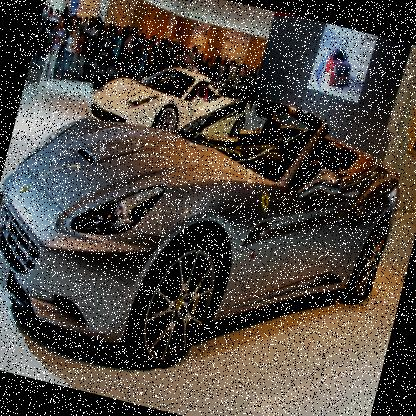Car: (0, 46, 411, 415), (85, 43, 253, 154), (206, 65, 258, 105), (322, 48, 356, 88), (33, 12, 62, 56)
